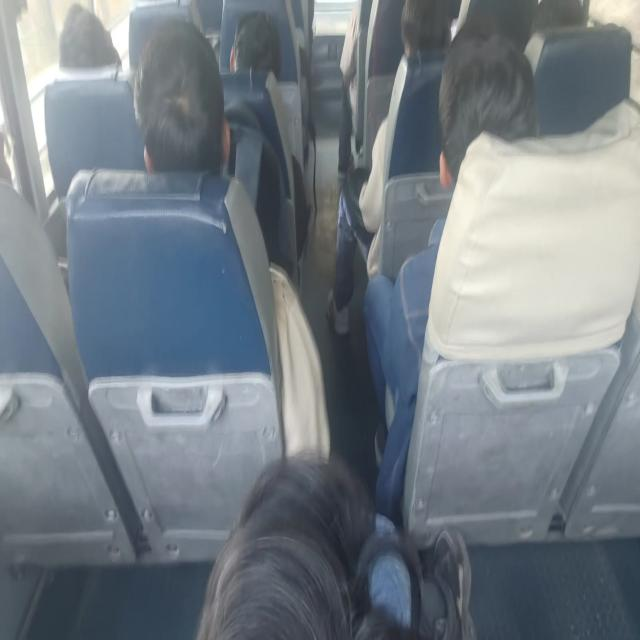person: (362, 22, 539, 520), (196, 448, 477, 638), (325, 0, 456, 335), (229, 10, 309, 269), (133, 19, 231, 175), (58, 2, 122, 72), (230, 10, 281, 77)
